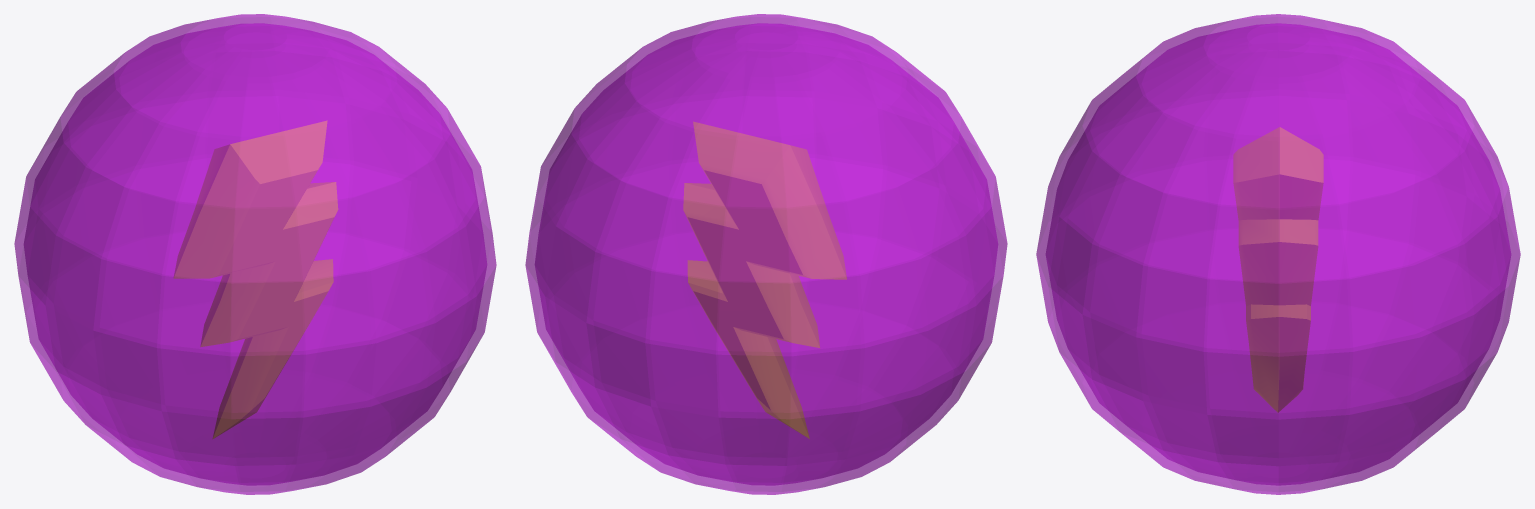
Rendered from SpeedBoost.glb.
3 renders of one model, left to right at view 1: azimuth 30°, elevation 25°; view 2: azimuth 150°, elevation 25°; view 3: azimuth 270°, elevation 25°, orthographic.
Visible parts, largest first — view 1: S_bubble, S_lightning_S_lightning_0; view 2: S_bubble, S_lightning_S_lightning_0; view 3: S_bubble, S_lightning_S_lightning_0.
Boxes of the visible parts, x1,y1,x2,y2 form: S_bubble: (14,14,496,494); S_lightning_S_lightning_0: (174,121,337,438); S_bubble: (525,14,1007,494); S_lightning_S_lightning_0: (683,122,846,438); S_bubble: (1036,14,1520,494); S_lightning_S_lightning_0: (1233,127,1323,412).
Size of the model in its own units: 3.15 by 3.14 by 3.15.
